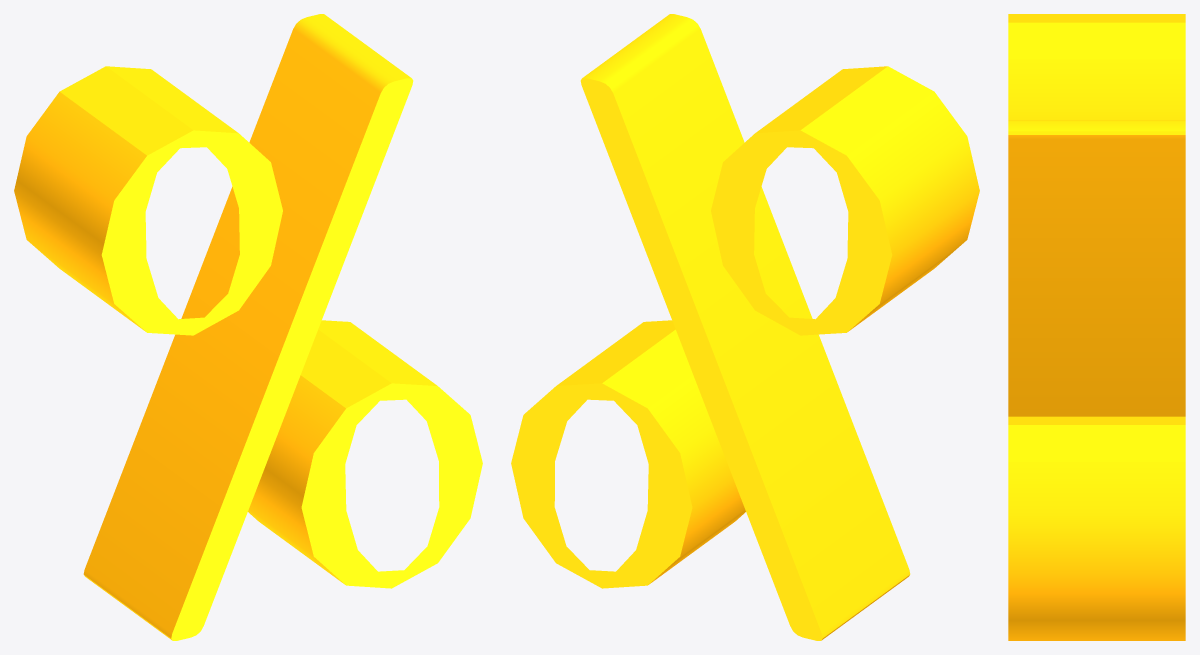
3 views of the same model, side by side, from view 1: azimuth 30°, elevation 25°; view 2: azimuth 150°, elevation 25°; view 3: azimuth 270°, elevation 25° (orthographic).
Visible parts, largest first — view 1: %_Soul_Yellow; view 2: %_Soul_Yellow; view 3: %_Soul_Yellow.
Part boxes in pixels (x1,y1,x2,y2): %_Soul_Yellow: [14, 14, 482, 640]; %_Soul_Yellow: [511, 14, 979, 640]; %_Soul_Yellow: [1008, 14, 1185, 640].
Size of what is drawn, in the model's own units: 0.113 by 0.1435 by 0.045.
2 materials, 2 textured.
